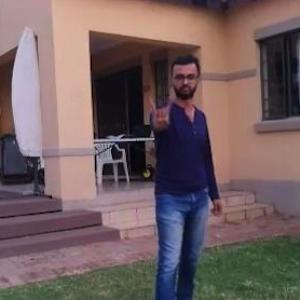takeoff-hand: (139, 88, 177, 134)
